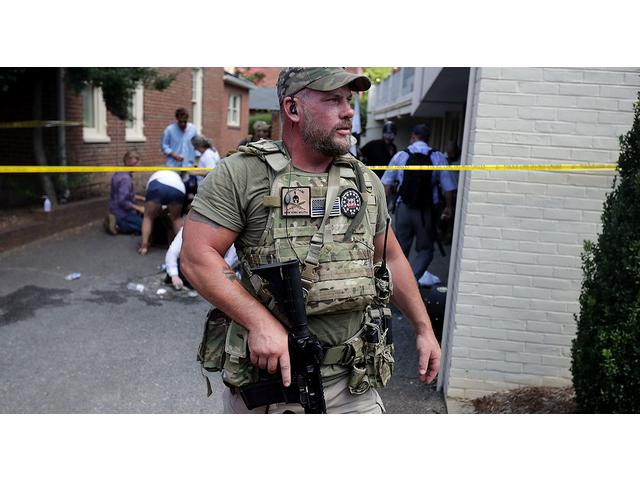rifle: (239, 263, 331, 413)
